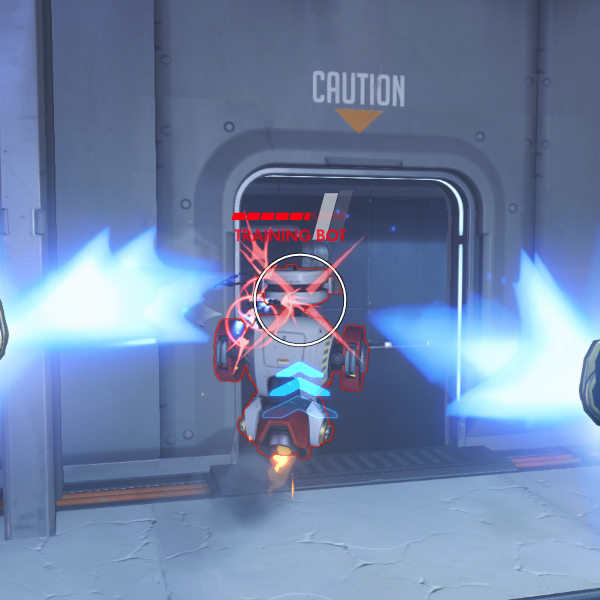hpbar: (232, 212, 347, 221)
